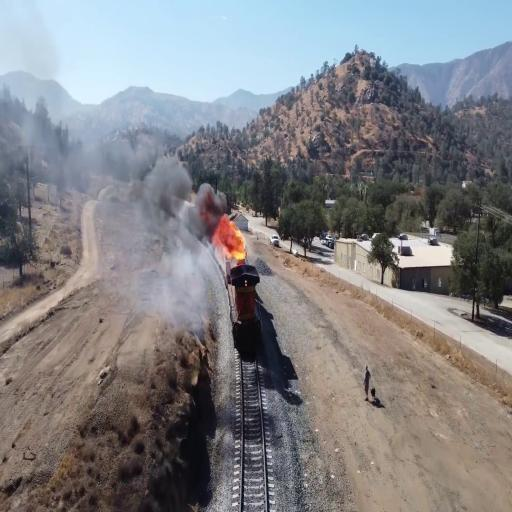fire: (215, 211, 247, 255)
